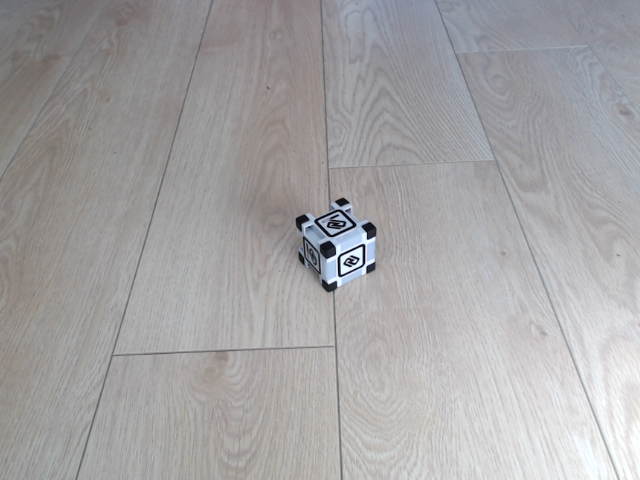block: (293, 196, 381, 299)
